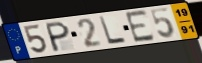2: (76, 17, 104, 49)
5: (149, 7, 177, 40), (22, 24, 49, 54)
E: (123, 9, 157, 45)
L: (98, 15, 128, 46)
P: (45, 20, 71, 53)
